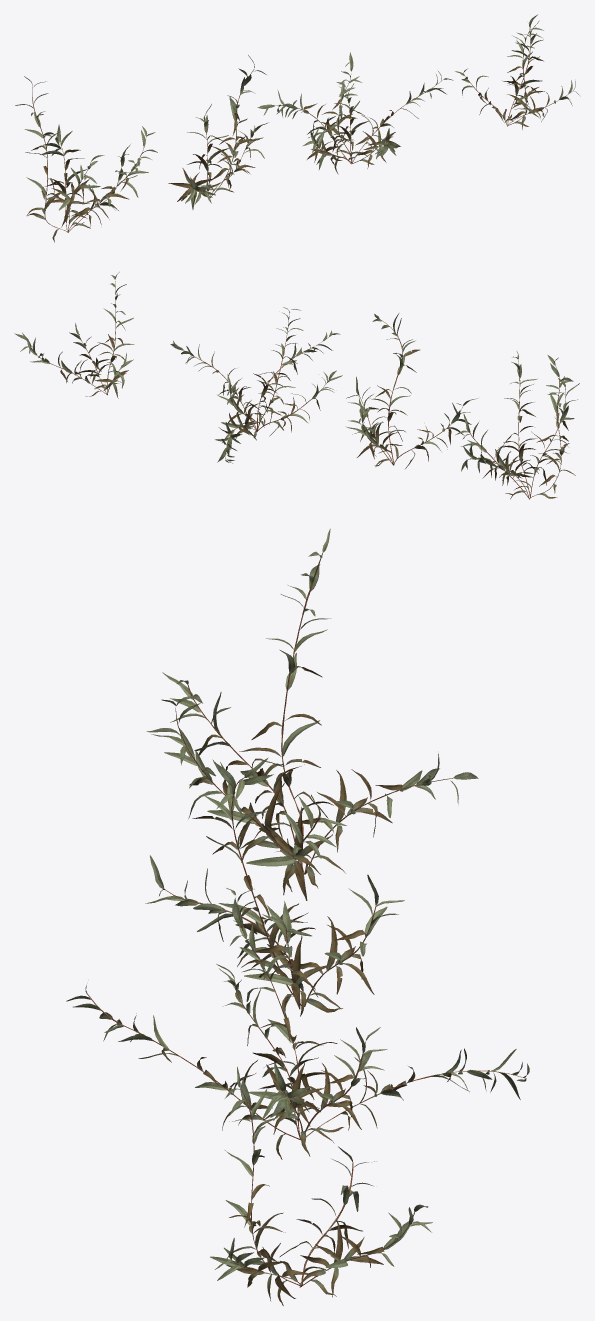
Rendered from shrub_02.glb.
3 renders of one model, top to bottom at view 1: azimuth 30°, elevation 25°; view 2: azimuth 150°, elevation 25°; view 3: azimuth 270°, elevation 25°, orthographic. The views are drawn at different scales.
Parts seen in each view (by area): view 1: shrub_02_a; view 2: shrub_02_a; view 3: shrub_02_a.
Boxes of the visible parts, x1=… form: shrub_02_a: x1=15, y1=14, x2=580, y2=242; shrub_02_a: x1=14, y1=272, x2=579, y2=499; shrub_02_a: x1=66, y1=528, x2=529, y2=1305.
Bounding box in the file's own units: 6.05 × 1.7 × 2.29.
1 material, 1 textured.
